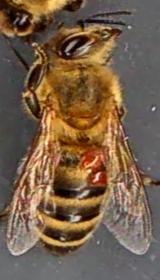varroa_mite: (72, 142, 111, 172), (80, 170, 112, 190)
